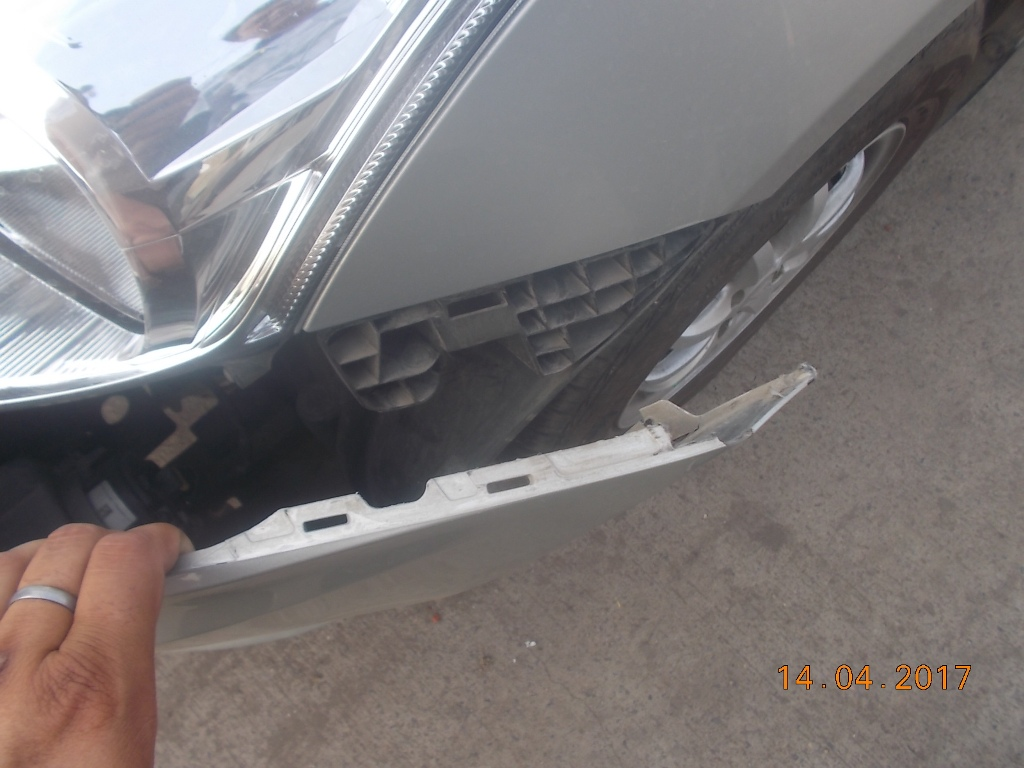Dislocation: (147, 220, 763, 536)
